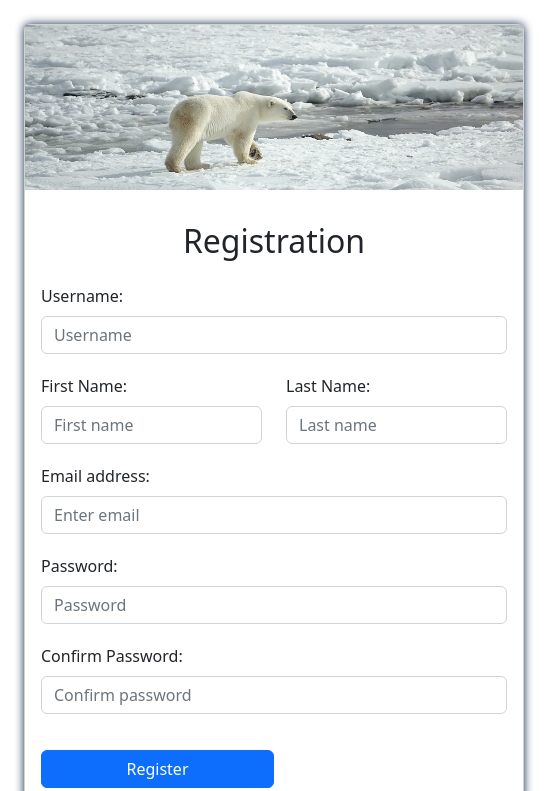
Scenario: Registration form - Failed registration (passwords dont match)
The image size is (549, 791).
// add values to form and submit
Type "johnDoe" into the field with test id "login_user" at (274,335), box [41,316,507,354]
Type "John" into the field with test id "fname_user" at (152,425), box [41,406,262,444]
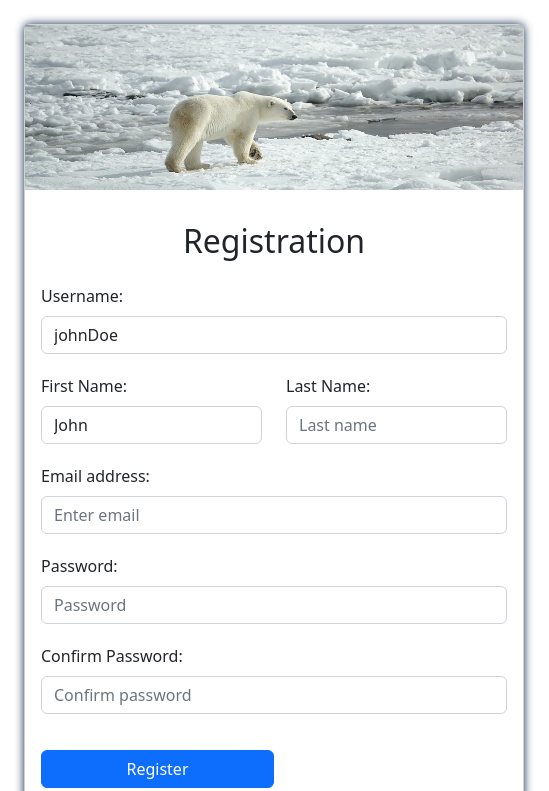
Type "Doe" into the field with test id "lname_user" at (396,425), box [286,406,507,444]
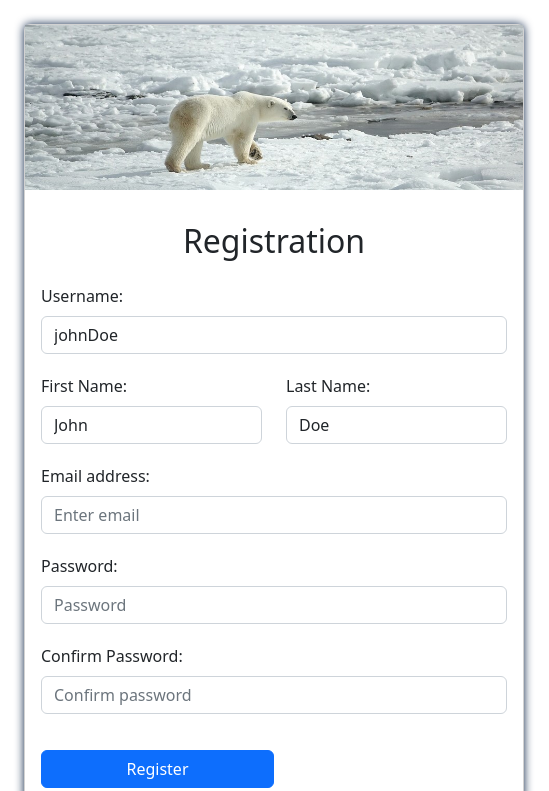
Type "johndoe@example.com" into the field with test id "email_user" at (274,515), box [41,496,507,534]
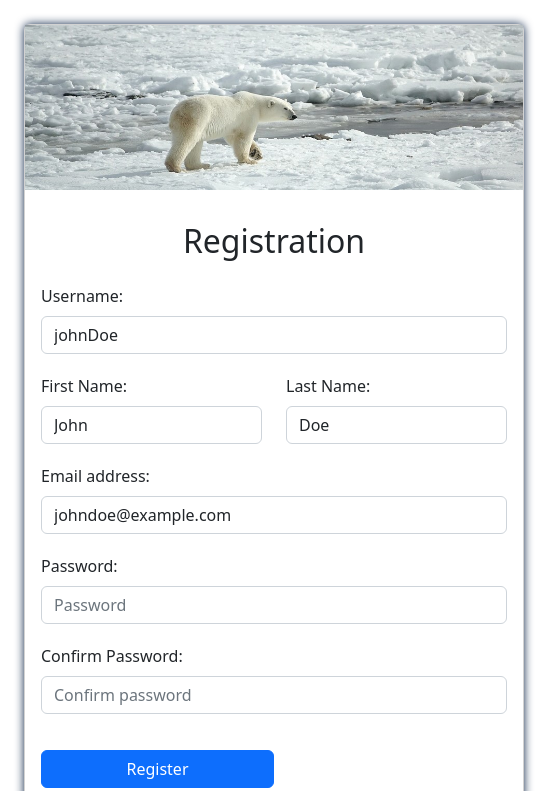
Type "password123" into the password field with test id "password_user" at (274,605), box [41,586,507,624]
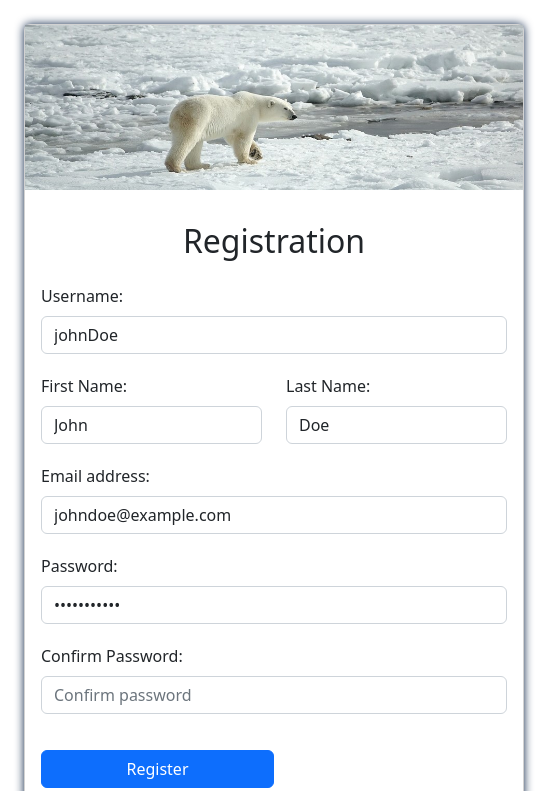
Type "password124" into the password field with test id "confirm_password_user" at (274,695), box [41,676,507,714]
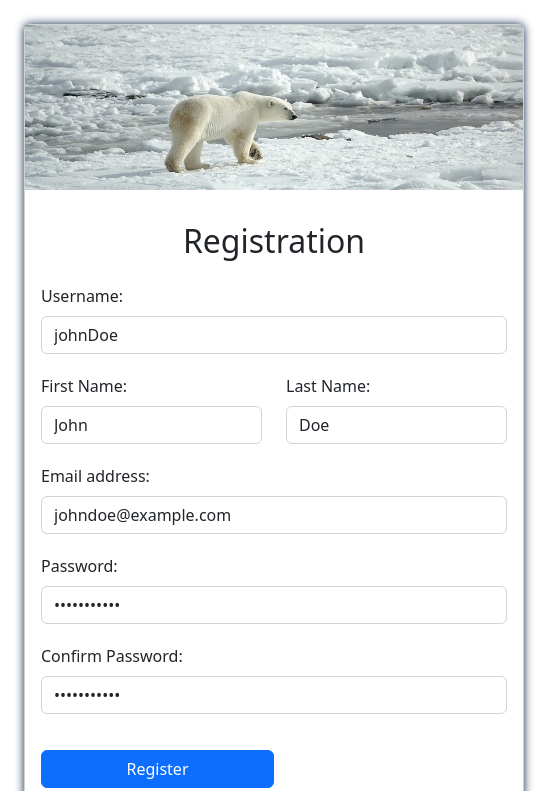
Click the button with test id "registerbutton" at (158,769), box [41,750,274,788]
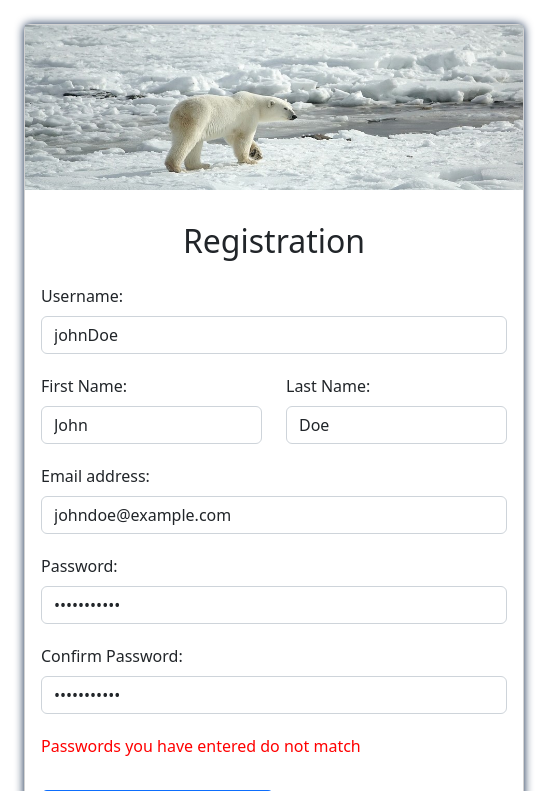
Expected: the text "Passwords you have entered do not match" is shown, [41,735,361,757]
